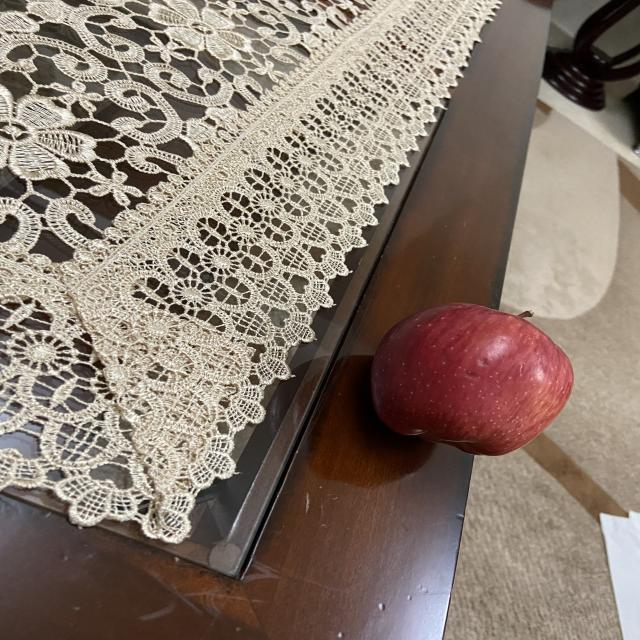apple: (366, 298, 580, 456)
